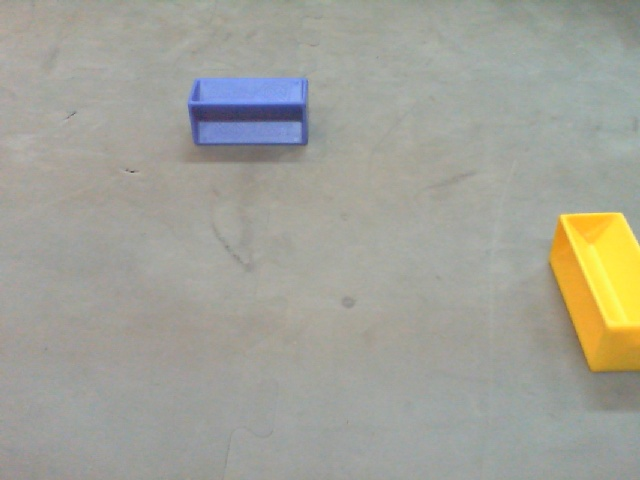BlueSample: (186, 72, 311, 148)
YellowSample: (549, 208, 640, 373)
